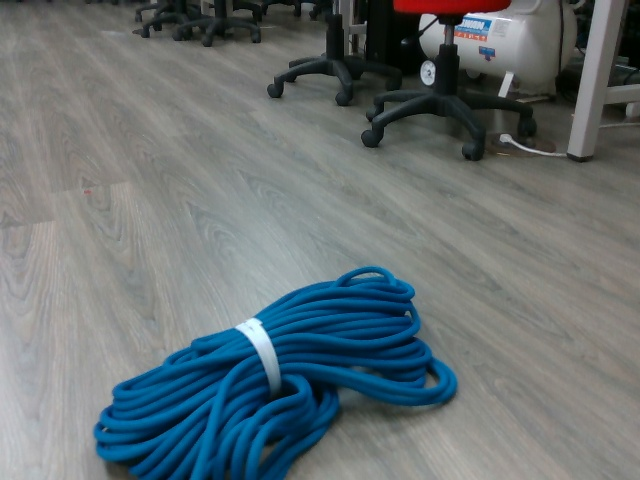rope: (92, 264, 461, 480)
